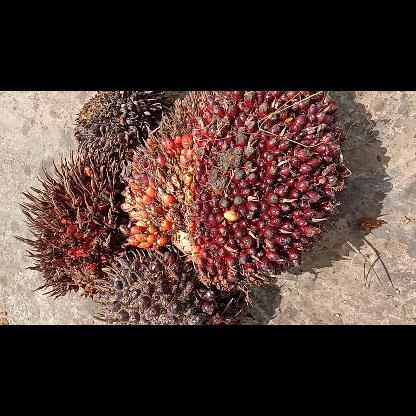Kurang masak: (102, 249, 246, 324)
TBS abnormal: (72, 90, 167, 160)
TBS masak: (120, 90, 346, 292)
Terlalu masak: (18, 152, 127, 296)
